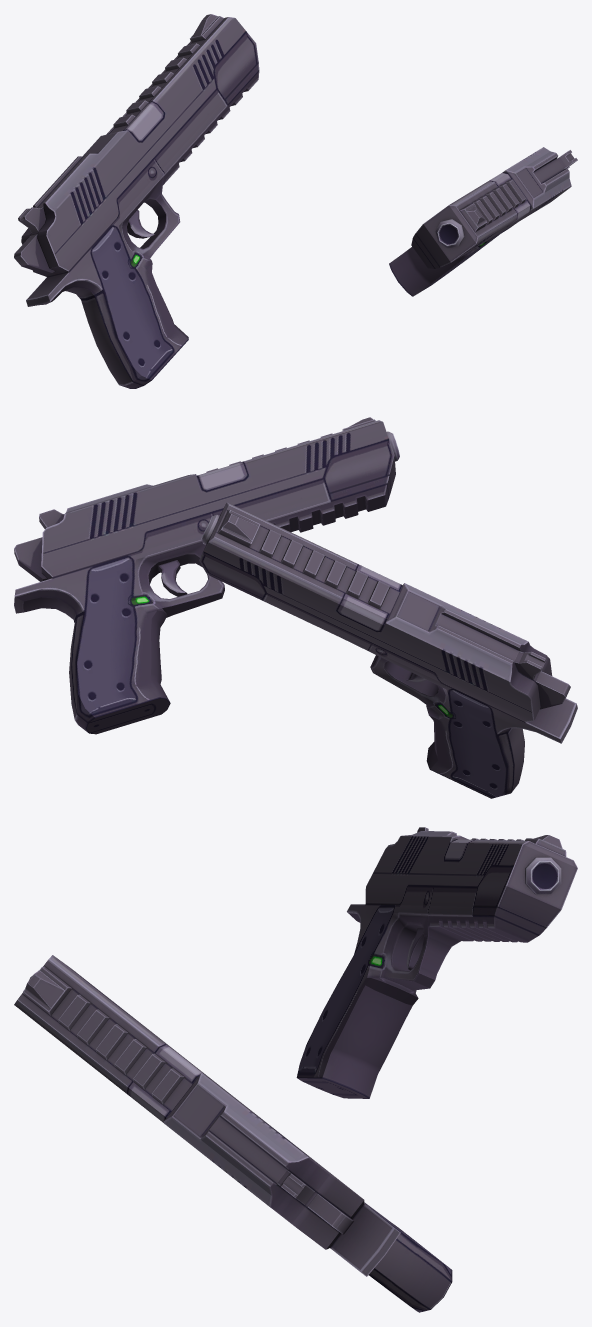
File: Weapon_Pistol_K2_03_2.fbx
3 renders of one model, top to bottom at view 1: azimuth 30°, elevation 25°; view 2: azimuth 150°, elevation 25°; view 3: azimuth 270°, elevation 25°, orthographic. The views are drawn at different scales.
Parts seen in each view (by area): view 1: RightPistol, LeftPistol; view 2: LeftPistol, RightPistol; view 3: RightPistol, LeftPistol.
Part boxes in pixels (x1,y1,x2,y2): RightPistol: (14,14,259,388); LeftPistol: (389,147,577,296); LeftPistol: (14,417,399,734); RightPistol: (199,502,577,798); RightPistol: (296,827,577,1098); LeftPistol: (14,955,452,1312).
Bounding box in the file's own units: 0.3821 × 0.1922 × 0.2673.
1 material, 1 textured.
